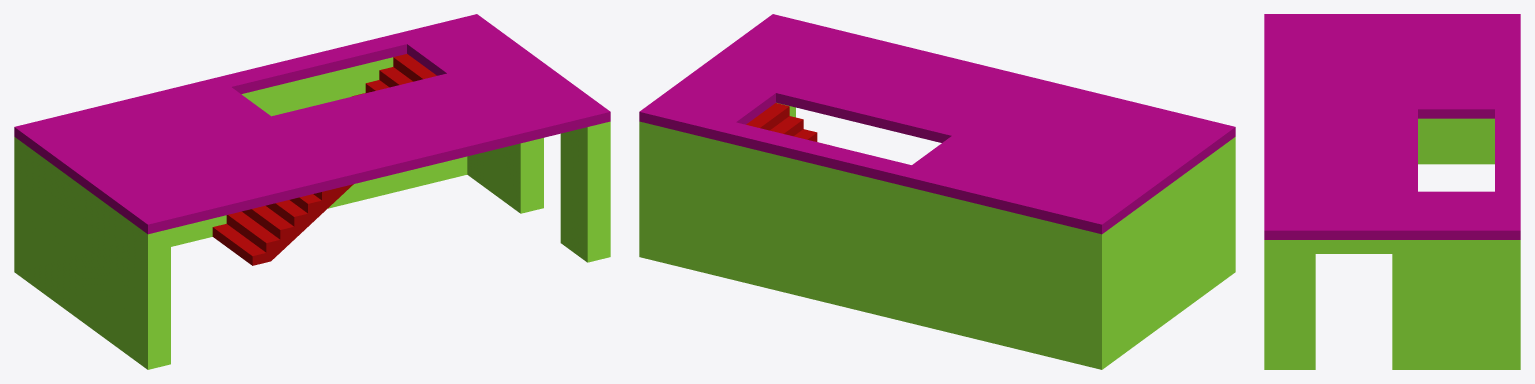
File: house.fbx
3 renders of one model, left to right at view 1: azimuth 30°, elevation 25°; view 2: azimuth 150°, elevation 25°; view 3: azimuth 270°, elevation 25°, orthographic. The views are drawn at different scales.
Visible parts, largest first — view 1: (unnamed), Empty_Mesh, Empty_Mesh_1; view 2: Empty_Mesh, (unnamed), Empty_Mesh_1; view 3: (unnamed), Empty_Mesh.
Boxes of the visible parts, x1,y1,x2,y2 form: (unnamed): (14, 14, 610, 234); Empty_Mesh: (14, 57, 610, 369); Empty_Mesh_1: (212, 54, 436, 265); Empty_Mesh: (639, 102, 1235, 369); (unnamed): (639, 14, 1235, 234); Empty_Mesh_1: (746, 103, 817, 141); (unnamed): (1264, 14, 1520, 239); Empty_Mesh: (1264, 118, 1520, 369).
Bounding box in the file's own units: 1000 × 300 × 500.
